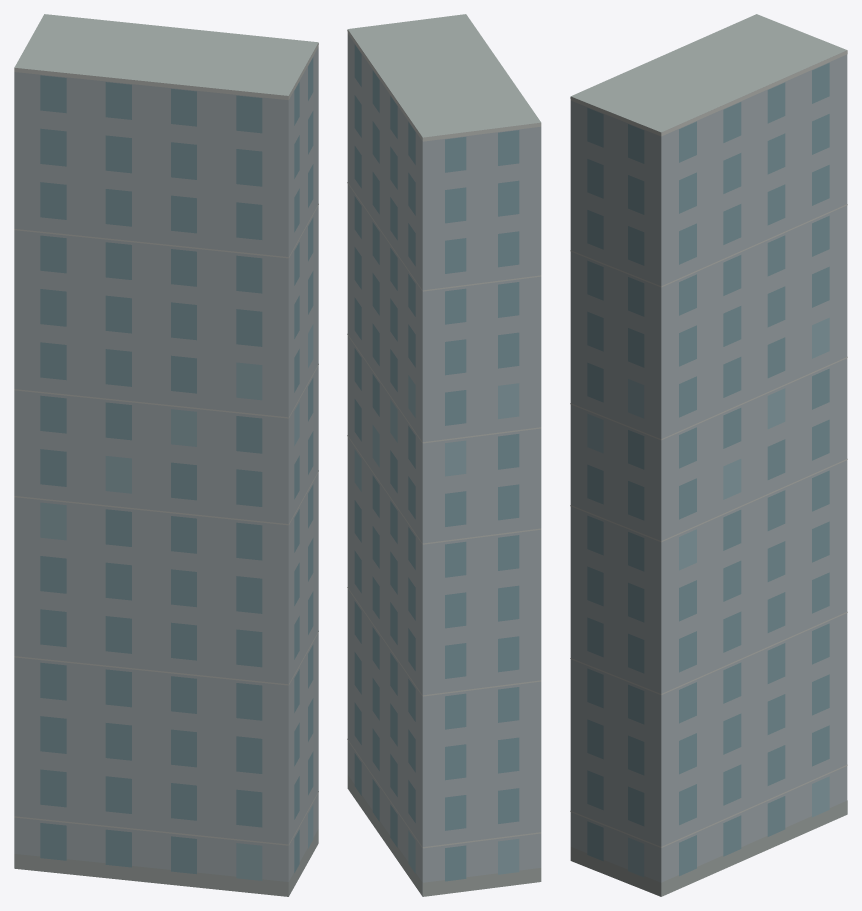
The model's file is survey-upis-32740202.glb.
The picture shows the model from 3 angles, left to right: view 1: azimuth 30°, elevation 25°; view 2: azimuth 150°, elevation 25°; view 3: azimuth 270°, elevation 25°; orthographic projection. The views are drawn at different scales.
Visible parts, largest first — view 1: survey-upis-32740202.tmp; view 2: survey-upis-32740202.tmp; view 3: survey-upis-32740202.tmp.
Boxes of the visible parts, x1,y1,x2,y2 form: survey-upis-32740202.tmp: (14, 14, 318, 896); survey-upis-32740202.tmp: (347, 14, 541, 896); survey-upis-32740202.tmp: (570, 14, 847, 896).
Bounding box in the file's own units: 15.23 × 45.75 × 15.04.
